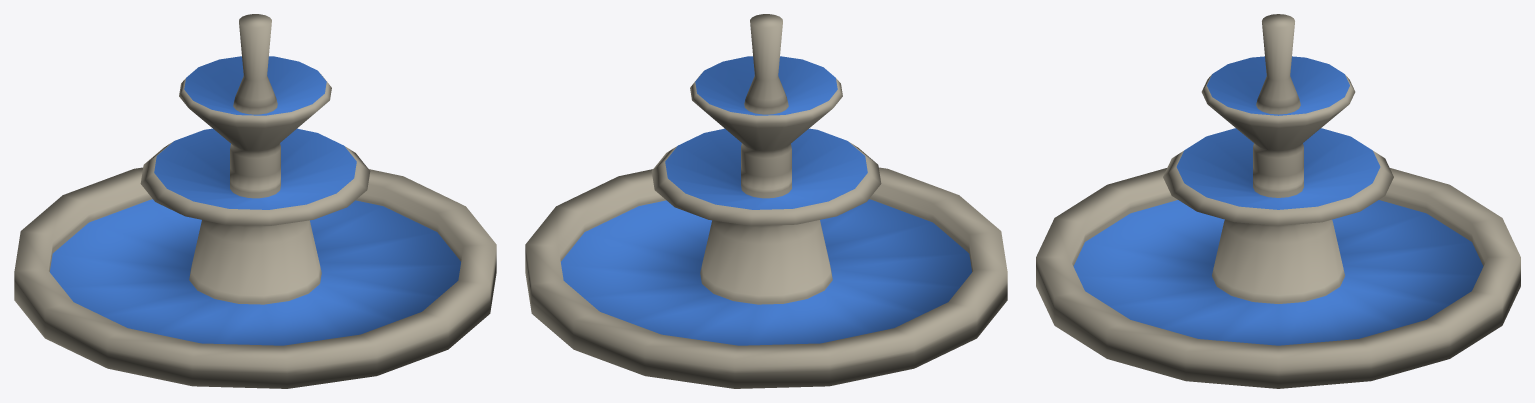
Rendered from decor_Fountain.fbx.
3 views of the same model, side by side, from view 1: azimuth 30°, elevation 25°; view 2: azimuth 150°, elevation 25°; view 3: azimuth 270°, elevation 25° (orthographic).
Parts seen in each view (by area): view 1: Fountain; view 2: Fountain; view 3: Fountain.
Part boxes in pixels (<box>): Fountain: <box>14,14,496,388</box>; Fountain: <box>525,14,1007,388</box>; Fountain: <box>1036,14,1520,388</box>.
Bounding box in the file's own units: 3000 × 1812 × 3000.
Materials: 1 (1 with a texture image).
